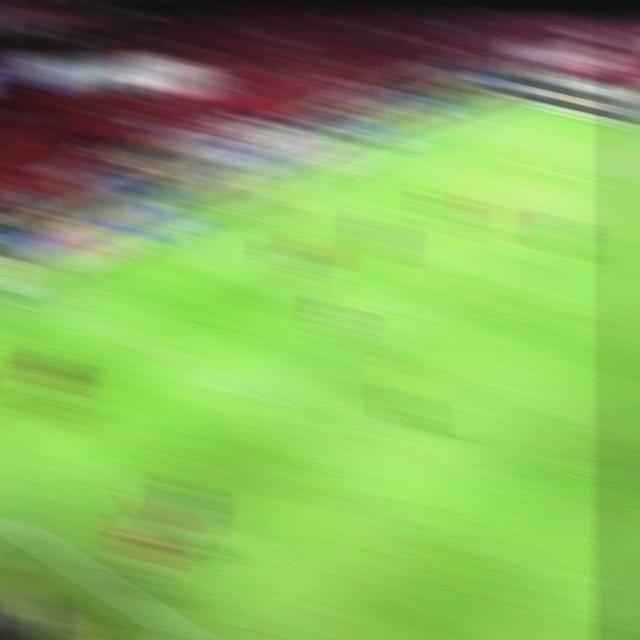bigarea_bottom_inner: (244, 386, 279, 410)
bigarea_bottom_outter: (17, 277, 50, 298)
bigarea_top_inner: (597, 179, 629, 198)
bigarea_top_outter: (404, 128, 435, 143)
bottom_arc_area_intersection: (389, 301, 422, 321)
corner: (487, 94, 521, 106)
smallarea_bottom_inner: (220, 249, 254, 271)
smallarea_bottom_outter: (157, 227, 189, 242)
smallarea_top_inner: (382, 179, 414, 195)
top_arc_area_intersection: (514, 230, 545, 248)
